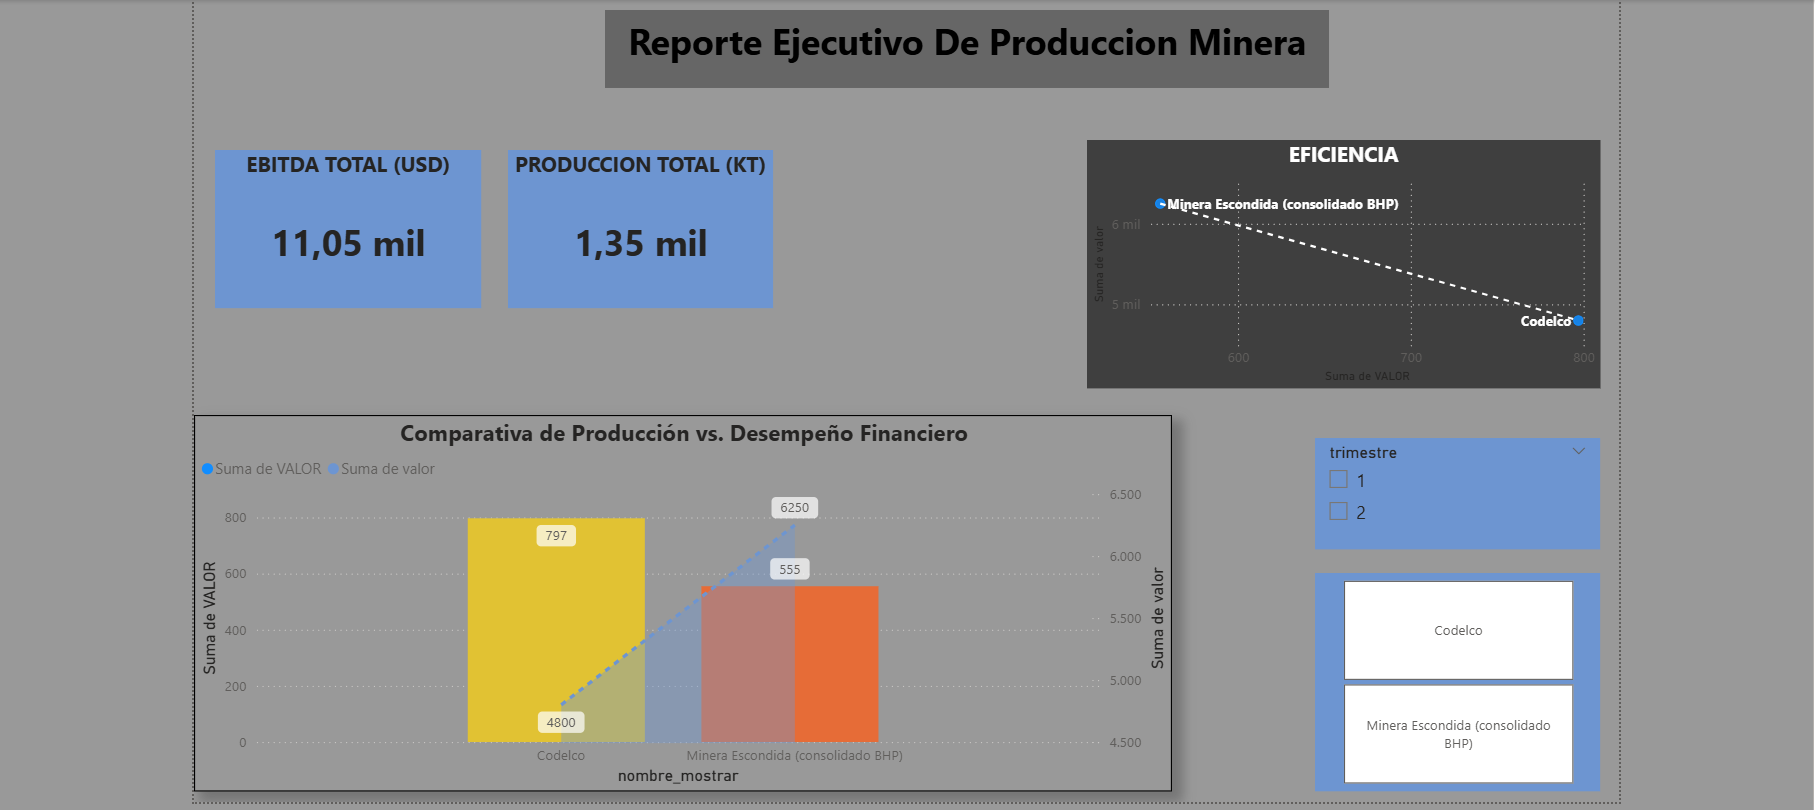

Layout of this report page (visuals, bound fields, positions):
{"tool":"powerbi","page":{"name":"Página 1","canvas":[1280,720],"ordinal":0},"visuals":[{"type":"textbox","box":[368.6,9,650.2,70.4],"z":0},{"type":"card","title":"PRODUCCION TOTAL (KT)","fields":{"Values":["Sum(chile_mineria_pbi fact_produccion.valor)"]},"box":[281.6,134.4,238.1,142.1],"z":1000},{"type":"card","title":"EBITDA TOTAL (USD)","fields":{"Values":["Sum(chile_mineria_pbi fact_financiero.valor)"]},"box":[19.2,134.4,239.4,142.1],"z":2000},{"type":"lineClusteredColumnComboChart","title":"Comparativa de Producción vs. Desempeño Financiero","fields":{"Category":["chile_mineria_pbi dim_entidad.nombre_mostrar"],"Y":["Sum(chile_mineria_pbi fact_produccion.VALOR)"],"Y2":["Sum(chile_mineria_pbi fact_financiero.valor)"]},"box":[0,372.5,878.1,337.9],"z":3000},{"type":"slicer","fields":{"Values":["chile_mineria_pbi dim_entidad.nombre_mostrar"]},"box":[1006.1,514.6,256,195.8],"z":4000},{"type":"slicer","fields":{"Values":["chile_mineria_pbi dim_tiempo.trimestre"]},"box":[1006.1,393,256,99.8],"z":5000},{"type":"scatterChart","title":"EFICIENCIA","fields":{"Category":["chile_mineria_pbi dim_entidad.nombre_mostrar"],"X":["Sum(chile_mineria_pbi fact_produccion.VALOR)"],"Y":["Sum(chile_mineria_pbi fact_financiero.valor)"]},"box":[801.3,125.4,460.8,222.7],"z":5001}]}

Visuals, with their boxes in screenshot pixels (x1, y1, x2, y2):
textbox: (602,5,1322,83)
"PRODUCCION TOTAL (KT)" card: (506,144,769,301)
"EBITDA TOTAL (USD)" card: (215,144,480,301)
"Comparativa de Producción vs. Desempeño Financiero" lineClusteredColumnComboChart: (194,408,1166,782)
slicer - chile_mineria_pbi dim_entidad.nombre_mostrar: (1308,565,1591,782)
slicer - chile_mineria_pbi dim_tiempo.trimestre: (1308,430,1591,541)
"EFICIENCIA" scatterChart: (1081,134,1591,381)
